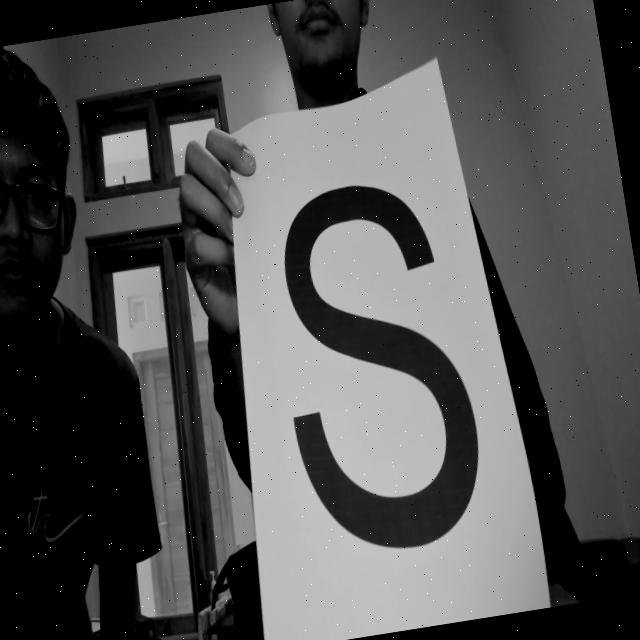s: (248, 160, 496, 582)
